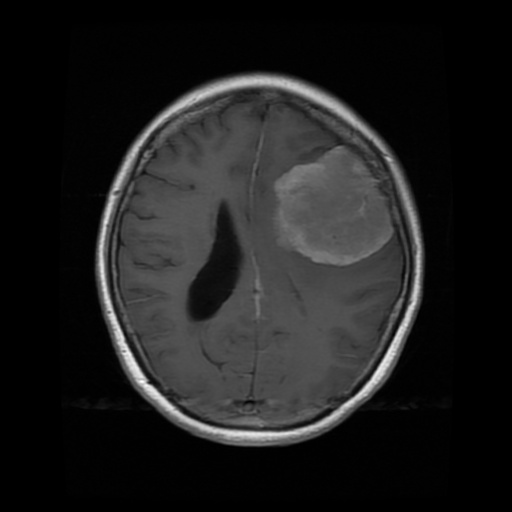meningioma: (274, 146, 394, 265)
